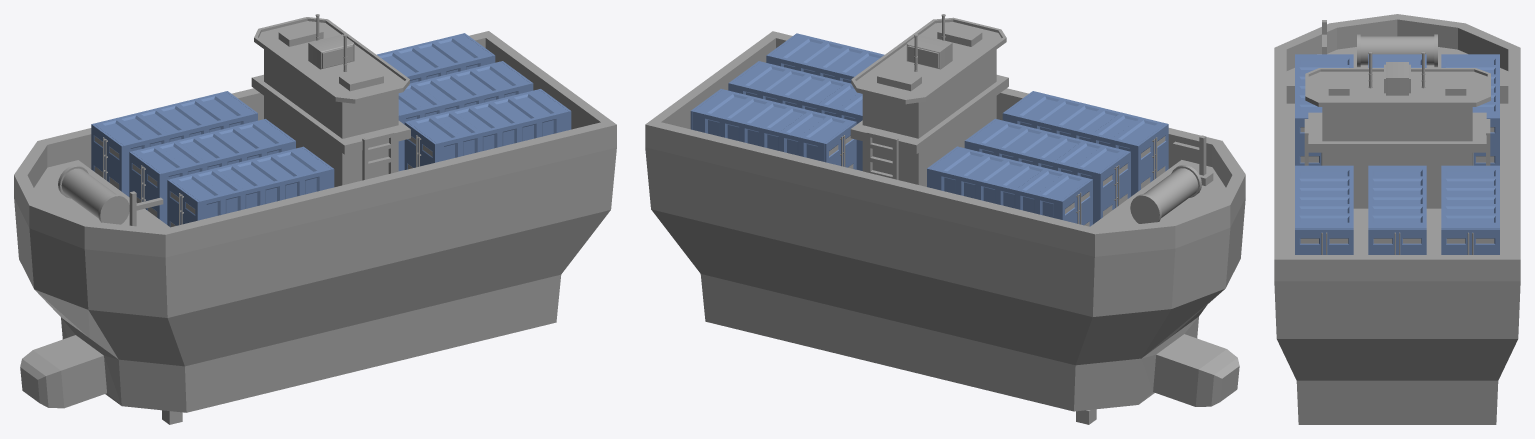
Rendered from Ship.fbx.
3 views of the same model, side by side, from view 1: azimuth 30°, elevation 25°; view 2: azimuth 150°, elevation 25°; view 3: azimuth 270°, elevation 25° (orthographic). The views are drawn at different scales.
Parts seen in each view (by area): view 1: pCylinder1, pCube23, pCube24, pCube25, pCube5, pCylinder3, pCube21, pCube8, pCube22, pCube6, pCylinder2, pCube7 (+10 smaller); view 2: pCylinder1, pCube25, pCube22, pCube24, pCube5, pCylinder3, pCube21, pCube8, pCube23, pCube6, pCylinder2, pCube7 (+11 smaller); view 3: pCylinder1, pCylinder3, pCube8, pCube22, pCube21, pCube23, pCube6, pCube7, pCylinder2, pCube24, pCube25, pCube11 (+11 smaller).
Part boxes in pixels (x1,y1,x2,y2): pCylinder1: (14,31,616,412); pCube23: (407,89,568,161); pCube24: (170,147,331,219); pCube25: (94,91,255,196); pCube5: (132,119,293,224); pCylinder3: (254,17,409,103); pCube21: (398,61,530,170); pCube8: (264,49,398,138); pCube22: (377,33,492,83); pCube6: (264,96,398,187); pCylinder2: (58,165,129,224); pCube7: (251,74,410,154); pCylinder1: (645,31,1245,411); pCube25: (929,147,1090,219); pCube22: (693,89,853,161); pCube24: (1005,91,1166,196); pCube5: (967,119,1128,224); pCylinder3: (851,17,1006,104); pCube21: (730,61,862,170); pCube8: (862,49,996,138); pCube23: (768,34,884,83); pCube6: (862,96,996,186); pCylinder2: (1130,165,1201,223); pCube7: (850,75,1008,154); pCylinder1: (1274,14,1520,424); pCylinder3: (1305,68,1490,106); pCube8: (1322,107,1472,141); pCube22: (1441,166,1499,228); pCube21: (1368,166,1426,228); pCube23: (1295,166,1353,228); pCube6: (1322,152,1472,208); pCube7: (1308,112,1486,152); pCylinder2: (1357,34,1437,67); pCube24: (1295,55,1353,117); pCube25: (1441,55,1499,117); pCube11: (1384,62,1410,95).
Size of the model in its own units: 39.76 by 25.96 by 16.84.
